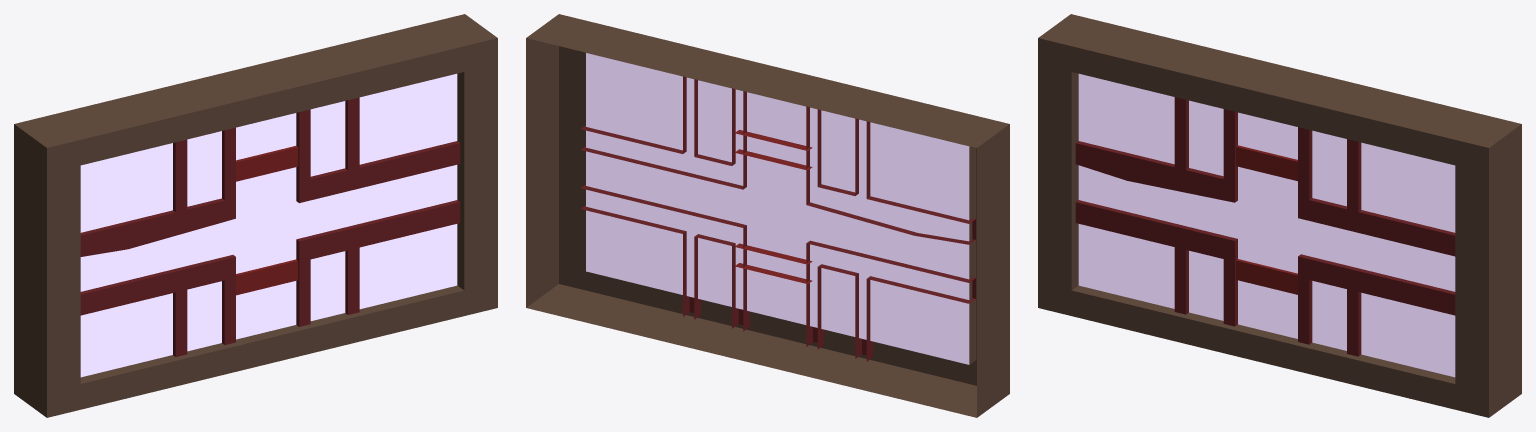
The model's file is Window_1 Asia.fbx.
The picture shows the model from 3 angles, left to right: view 1: azimuth 30°, elevation 25°; view 2: azimuth 150°, elevation 25°; view 3: azimuth 330°, elevation 25°; orthographic projection.
Visible parts, largest first — view 1: Window_1; view 2: Window_1; view 3: Window_1.
Boxes of the visible parts, left/top/right/bottom form: Window_1: left=14, top=14, right=497, bottom=417; Window_1: left=526, top=14, right=1009, bottom=417; Window_1: left=1038, top=14, right=1521, bottom=417.
Size of the model in its own units: 1.69 by 0.9643 by 0.2127.
